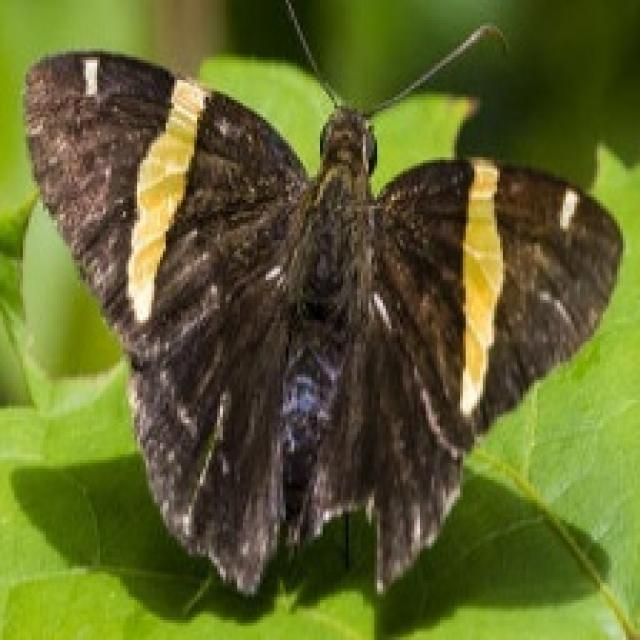butterfly: (20, 0, 623, 600)
